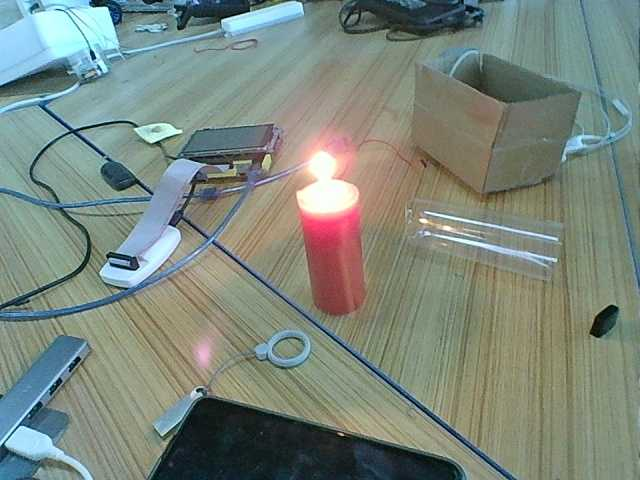candle: (292, 195, 376, 320)
fire: (289, 147, 346, 191)
